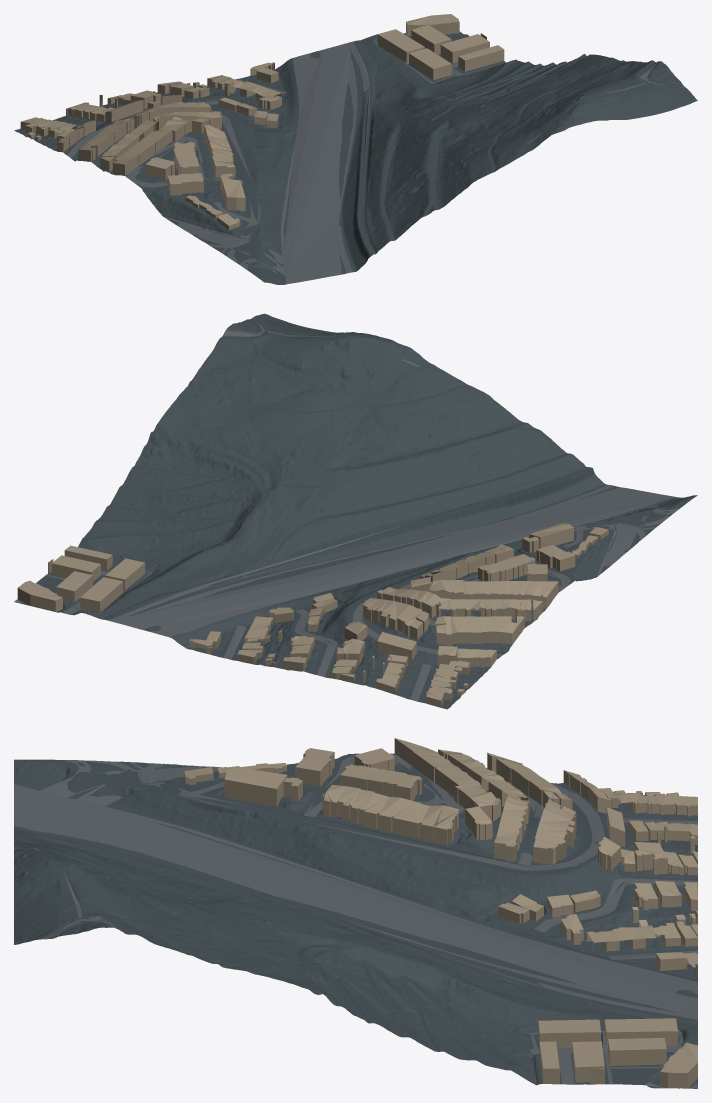
File: epsg26910-1440-10870.lod0.glb
3 renders of one model, top to bottom at view 1: azimuth 30°, elevation 25°; view 2: azimuth 150°, elevation 25°; view 3: azimuth 270°, elevation 25°, orthographic. The views are drawn at different scales.
Visible parts, largest first — view 1: epsg26910-1440-10870-lod0; view 2: epsg26910-1440-10870-lod0; view 3: epsg26910-1440-10870-lod0.
Boxes of the visible parts, box(x1,y1,x2,y2) form: epsg26910-1440-10870-lod0: box(14, 14, 697, 284); epsg26910-1440-10870-lod0: box(14, 313, 697, 709); epsg26910-1440-10870-lod0: box(14, 738, 697, 1088).
Size of the model in its own units: 384 by 104 by 384.
